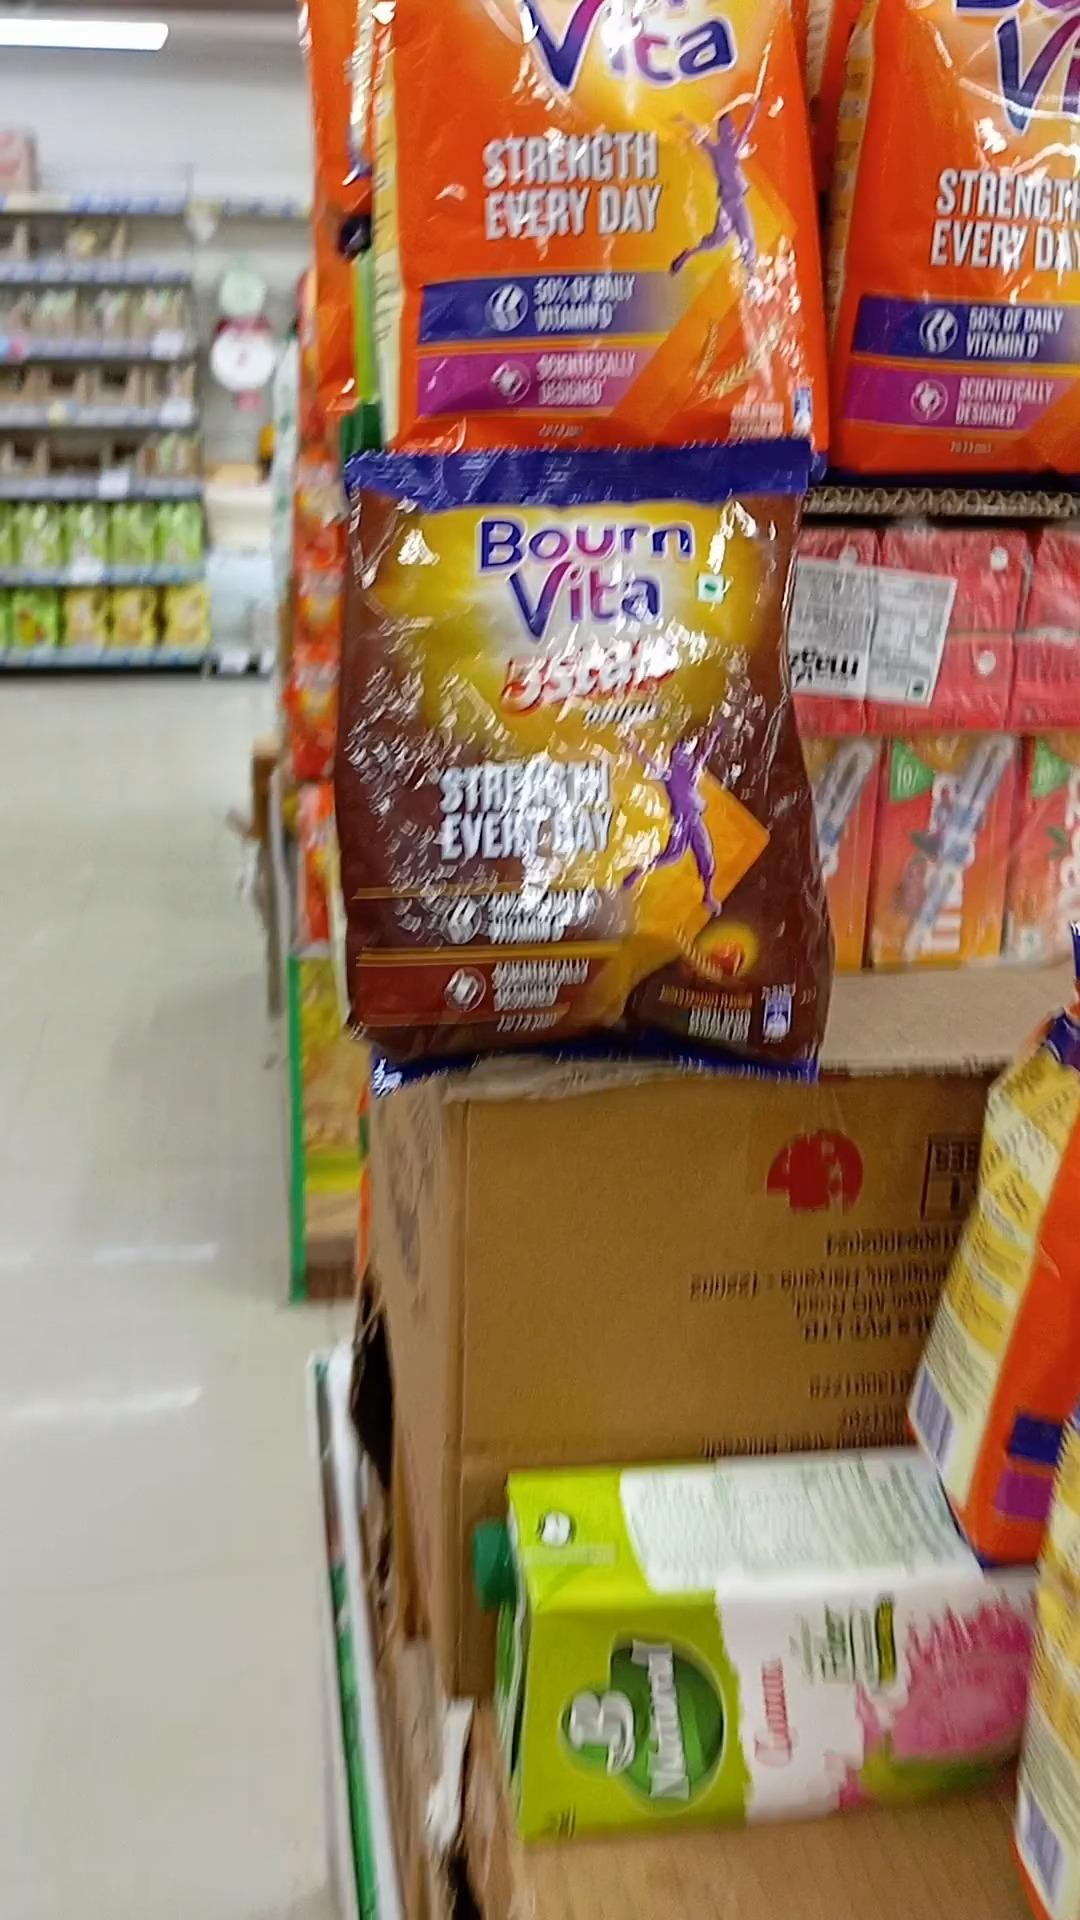BOURN_VITA_FIVE_STAR_MAGIC_500_G_POUCH: (344, 455, 815, 1065)
